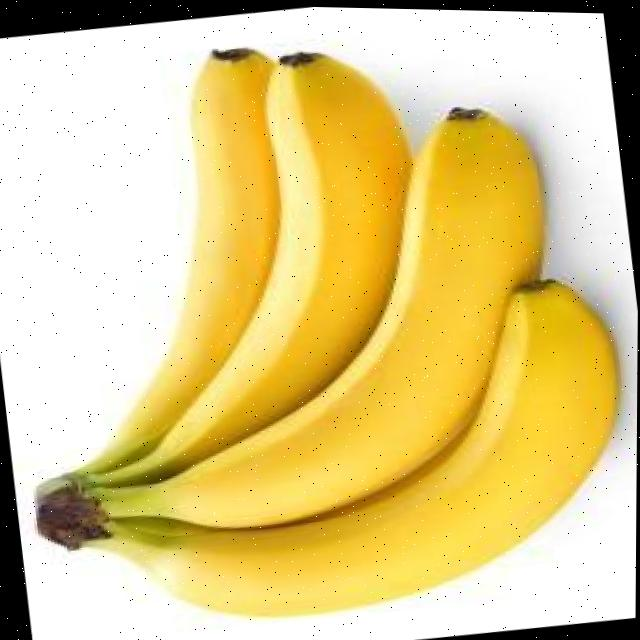Banana: (94, 117, 537, 525), (86, 278, 613, 613), (92, 51, 407, 482), (84, 46, 278, 472)
